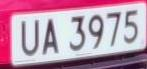3: (67, 10, 87, 57)
5: (122, 7, 140, 49)
7: (106, 9, 125, 52)
9: (87, 11, 107, 53)
A: (41, 13, 62, 61)
U: (19, 16, 42, 61)
